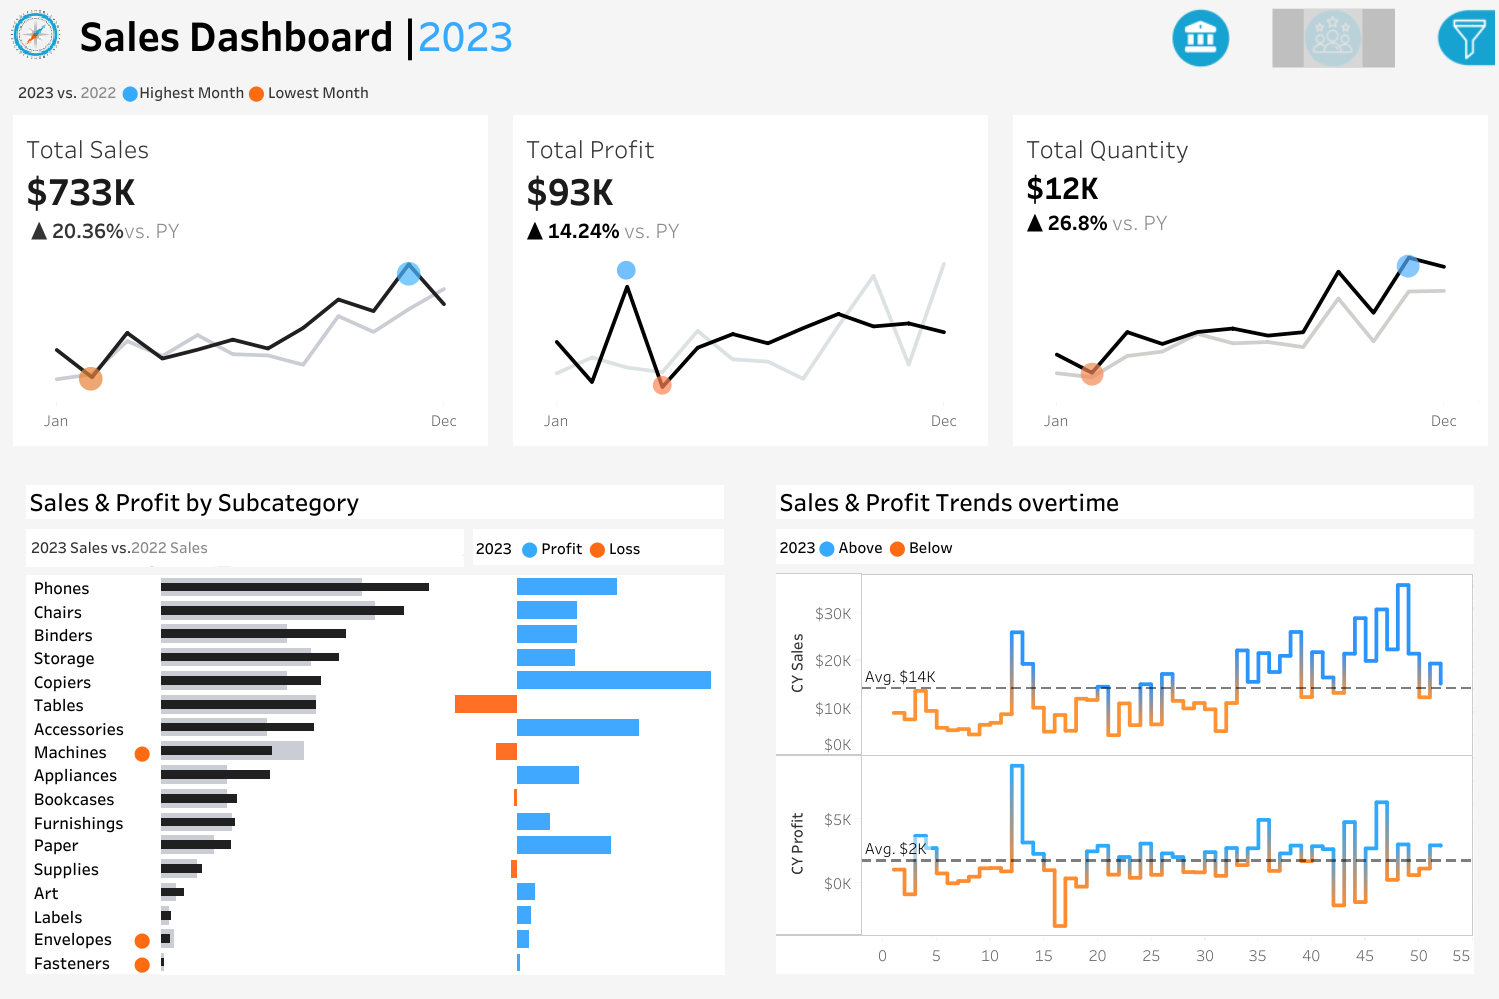

This screenshot's page, from the dashboard's own definition file:
{"tool":"tableau","page":{"name":"Sales Dashboard","canvas":[1200,800],"ordinal":0},"visuals":[{"type":"image","param":"Image/Icon - Logo.png","box":[0,0,57,55]},{"type":"text","box":[57,0,819,55]},{"type":"dashboard-object","box":[908,3,106,55]},{"type":"dashboard-object","box":[1014,3,106,55]},{"type":"blank","box":[966,10,222,32]},{"type":"text","box":[966,42,222,97]},{"type":"worksheet","title":"Legend KPI","mark":"Automatic","box":[0,55,1200,37]},{"type":"worksheet","title":"KPI Sales","mark":"Automatic","rows":["Calculation_906208702254653444"],"cols":["Order Date"],"box":[0,92,400,275]},{"type":"worksheet","title":"KPI Profit","mark":"Automatic","rows":["Calculation_1245878630433161220"],"cols":["Order Date"],"box":[400,92,400,275]},{"type":"worksheet","title":"KPI Quantity","mark":"Automatic","rows":["Calculation_1272900228226228224"],"cols":["Order Date"],"box":[800,92,400,275]},{"type":"parameter","param":"[Parameters].[Parameter 1]","box":[966,139,222,52]},{"type":"blank","box":[966,191,222,38]},{"type":"text","box":[966,229,222,29]},{"type":"filter","title":"KPI Sales","param":"[federated.1f496rm14j2die13cf6n70rkby8p].[none:Category:nk]","box":[966,258,222,52]},{"type":"filter","title":"KPI Sales","param":"[federated.1f496rm14j2die13cf6n70rkby8p].[none:Sub-Category:nk]","box":[966,310,222,52]},{"type":"text","box":[966,362,222,29]},{"type":"text","box":[17,384,566,34]},{"type":"text","box":[617,384,566,34]},{"type":"filter","title":"KPI Sales","param":"[federated.1f496rm14j2die13cf6n70rkby8p].[none:Region:nk]","box":[966,391,222,52]},{"type":"worksheet","title":"Legend sub category","mark":"Automatic","box":[17,418,357,37]},{"type":"text","box":[374,418,209,37]},{"type":"text","box":[617,418,566,36]},{"type":"filter","title":"KPI Sales","param":"[federated.1f496rm14j2die13cf6n70rkby8p].[none:State:nk]","box":[966,443,222,52]},{"type":"worksheet","title":"Weekly Trends","mark":"Automatic","rows":["Calculation_906208702246862848","Calculation_1245878630424743936"],"cols":["Order Date"],"box":[617,454,566,329]},{"type":"worksheet","title":"Subcategory Comparission","mark":"Bar","rows":["Sub-Category","Calculation_1272900228233838595"],"cols":["CY Sales (copy)_906208702247608321","Calculation_906208702246862848","Calculation_1245878630424743936"],"box":[17,455,566,327.9]},{"type":"filter","title":"KPI Sales","param":"[federated.1f496rm14j2die13cf6n70rkby8p].[none:City:nk]","box":[966,495,222,52]}]}

Visuals, with their boxes in screenshot pixels (x1, y1, x2, y2), scaled from the page's 1200x800 canvas onto the 1499x999 screenshot:
image: x1=0, y1=0, x2=71, y2=69
text: x1=71, y1=0, x2=1094, y2=69
dashboard-object: x1=1134, y1=4, x2=1267, y2=72
dashboard-object: x1=1267, y1=4, x2=1399, y2=72
blank: x1=1207, y1=12, x2=1484, y2=52
text: x1=1207, y1=52, x2=1484, y2=174
"Legend KPI" worksheet: x1=0, y1=69, x2=1498, y2=115
"KPI Sales" worksheet: x1=0, y1=115, x2=500, y2=458
"KPI Profit" worksheet: x1=500, y1=115, x2=999, y2=458
"KPI Quantity" worksheet: x1=999, y1=115, x2=1498, y2=458
parameter: x1=1207, y1=174, x2=1484, y2=239
blank: x1=1207, y1=239, x2=1484, y2=286
text: x1=1207, y1=286, x2=1484, y2=322
"KPI Sales" filter: x1=1207, y1=322, x2=1484, y2=387
"KPI Sales" filter: x1=1207, y1=387, x2=1484, y2=452
text: x1=1207, y1=452, x2=1484, y2=488
text: x1=21, y1=480, x2=728, y2=522
text: x1=771, y1=480, x2=1478, y2=522
"KPI Sales" filter: x1=1207, y1=488, x2=1484, y2=553
"Legend sub category" worksheet: x1=21, y1=522, x2=467, y2=568
text: x1=467, y1=522, x2=728, y2=568
text: x1=771, y1=522, x2=1478, y2=567
"KPI Sales" filter: x1=1207, y1=553, x2=1484, y2=618
"Weekly Trends" worksheet: x1=771, y1=567, x2=1478, y2=978
"Subcategory Comparission" worksheet (Bar marks): x1=21, y1=568, x2=728, y2=978
"KPI Sales" filter: x1=1207, y1=618, x2=1484, y2=683
